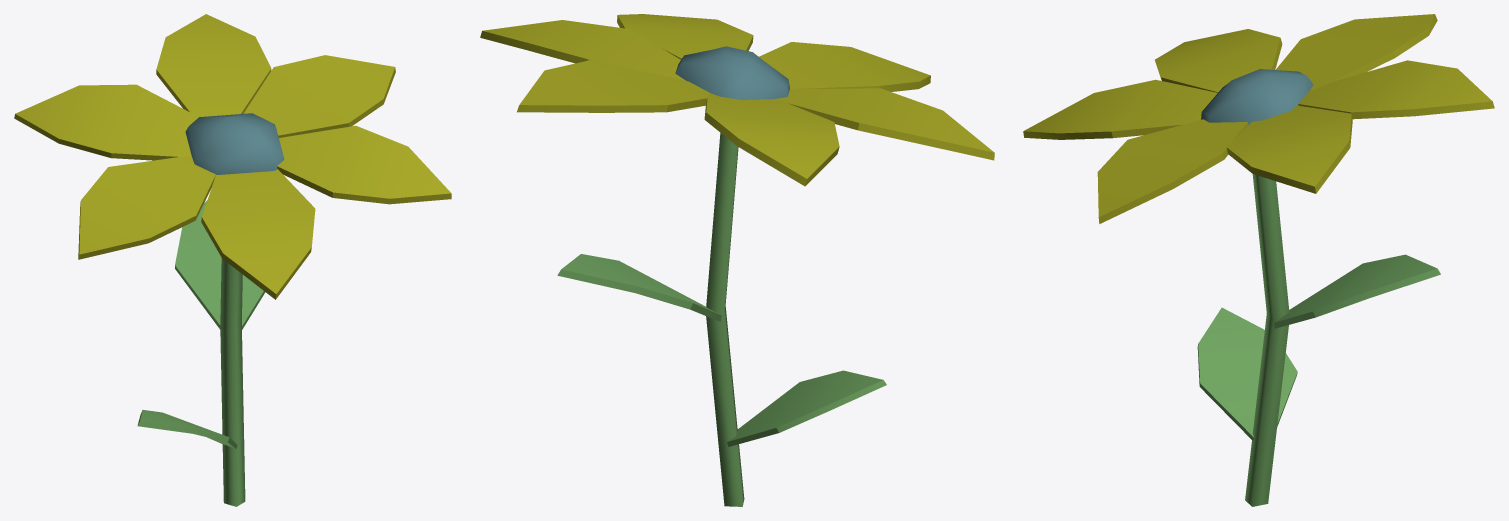
Rendered from SM_Flowers_02.fbx.
The picture shows the model from 3 angles, left to right: view 1: azimuth 30°, elevation 25°; view 2: azimuth 150°, elevation 25°; view 3: azimuth 270°, elevation 25°; orthographic projection. The views are drawn at different scales.
Parts seen in each view (by area): view 1: SM_Flowers_02; view 2: SM_Flowers_02; view 3: SM_Flowers_02.
Boxes of the visible parts, box(x1,y1,x2,y2) form: SM_Flowers_02: box(14, 14, 451, 506); SM_Flowers_02: box(480, 14, 994, 506); SM_Flowers_02: box(1023, 14, 1494, 506).
Bounding box in the file's own units: 29.94 × 30.09 × 28.93.
